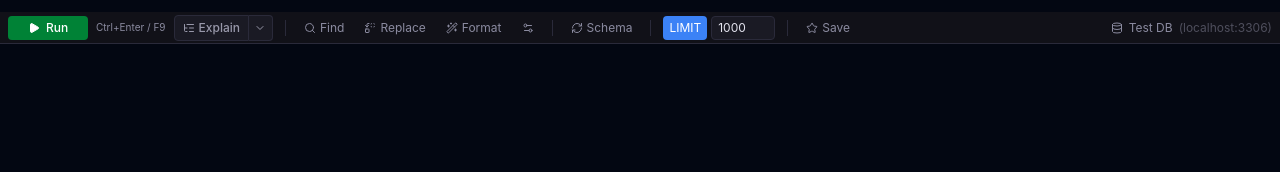
Test: QueryToolbar › accessible state (#853) › names the Explain menu button, says whether it is open, and closes on Escape
Click the button named "Explain options".
click(261, 28)  # box top-left (249, 14), bottom-right (273, 40)
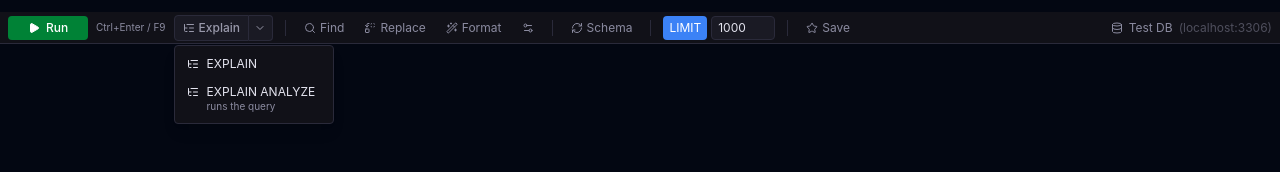
Expected: the text "EXPLAIN ANALYZE" is shown, top-left (207, 84), bottom-right (315, 98)
Press Escape
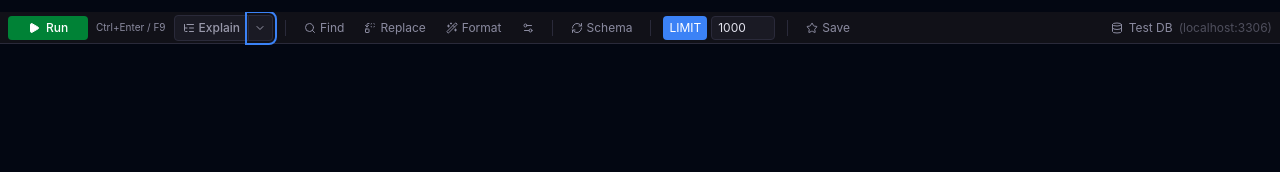
Expected: the button "EXPLAIN ANALYZE" is gone
